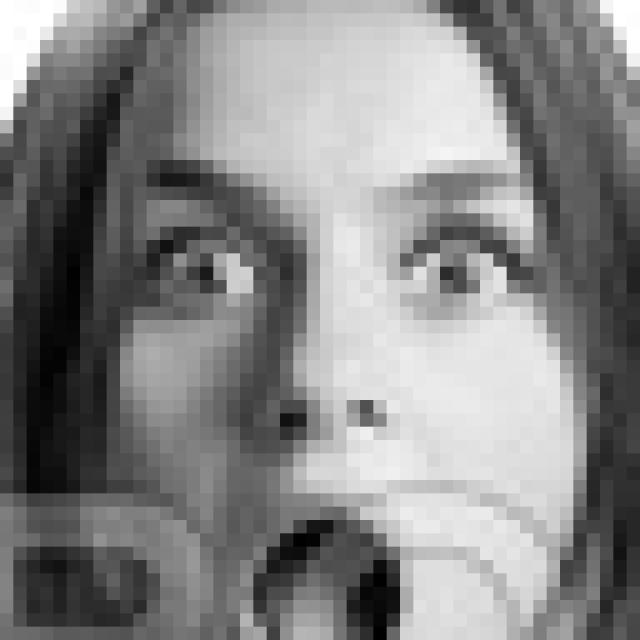surprise: (117, 149, 546, 640)
